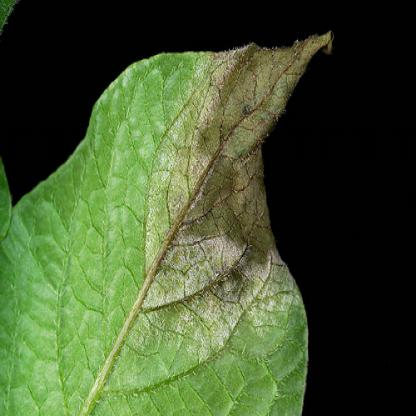potato leaf early blight: (3, 27, 337, 415)
